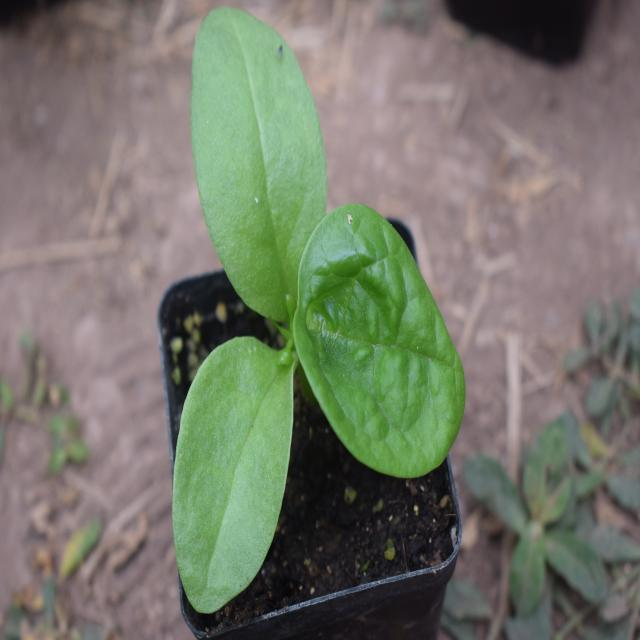Ceylon spinach: (162, 10, 473, 562)
